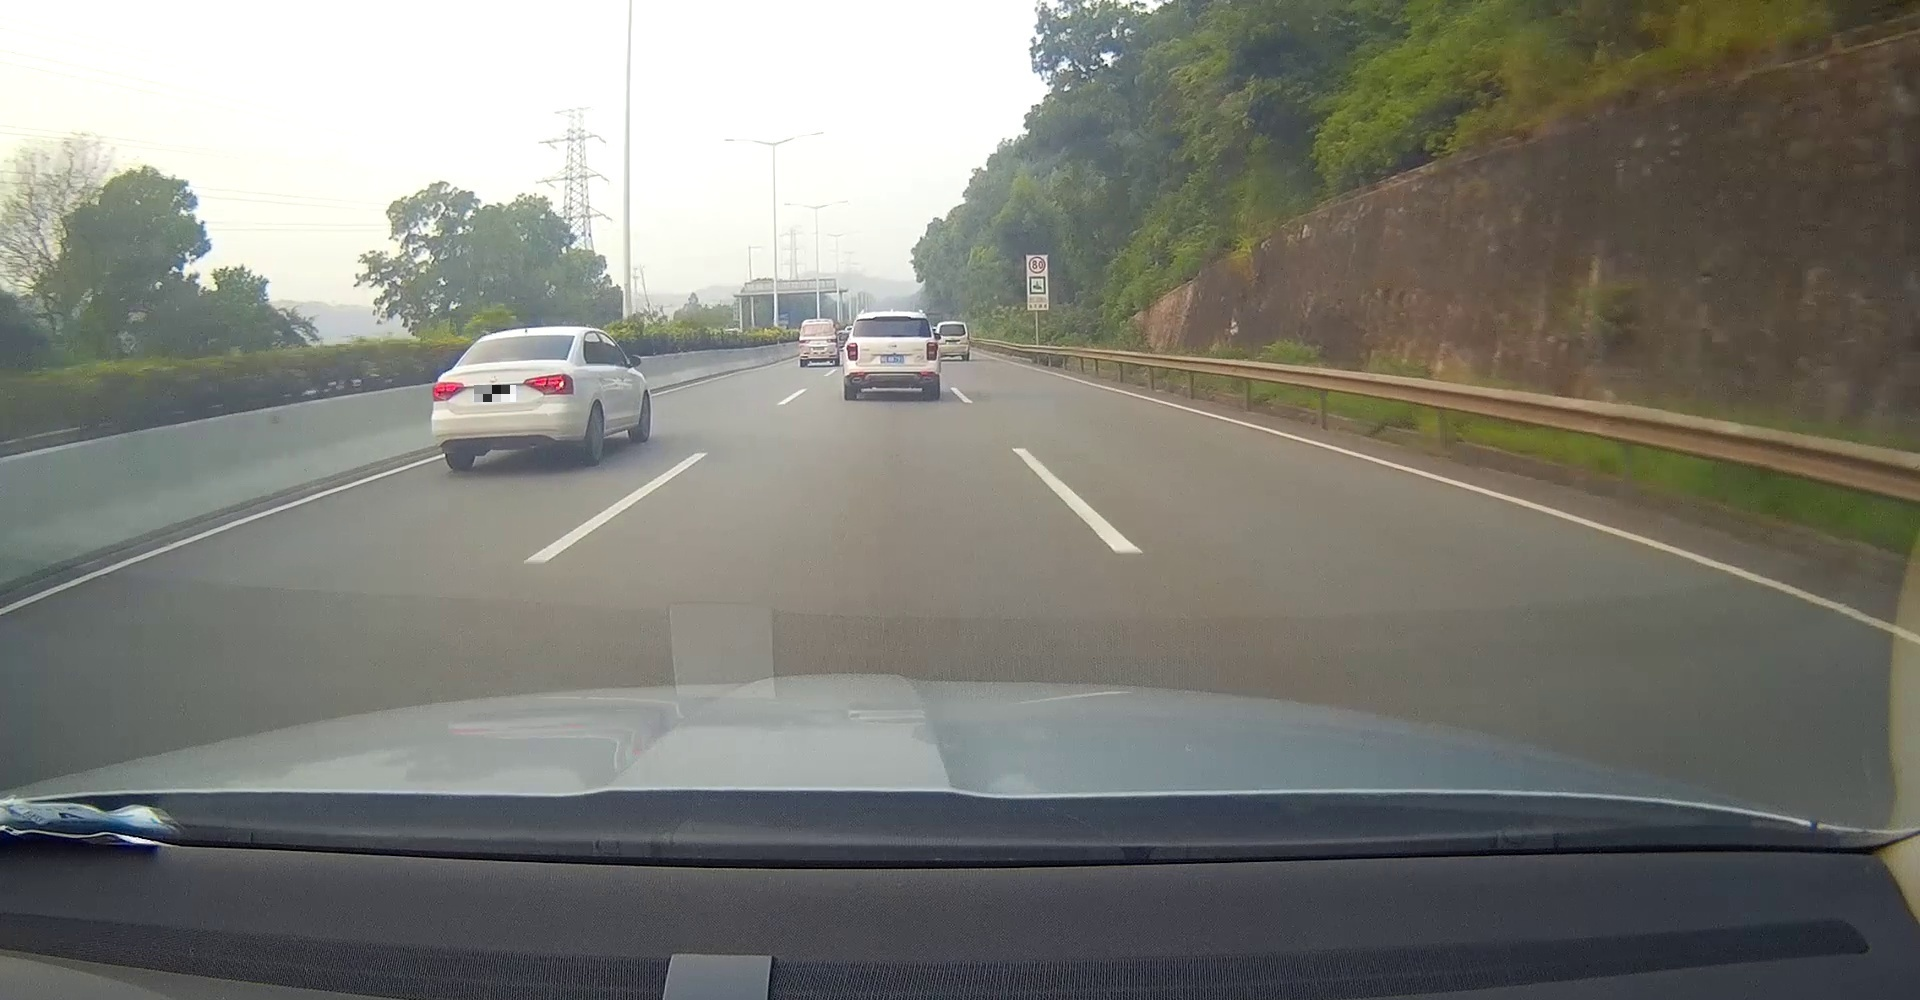L_light: (432, 379, 463, 402), (846, 343, 858, 360), (799, 339, 808, 344)
R_light: (523, 373, 575, 396), (926, 341, 938, 360), (828, 338, 836, 341)
T_light: (497, 357, 518, 362), (874, 316, 910, 319), (813, 322, 822, 324)
day-no: (430, 326, 583, 472), (842, 311, 941, 400), (797, 319, 839, 365)
plate_1: (474, 385, 516, 402)
